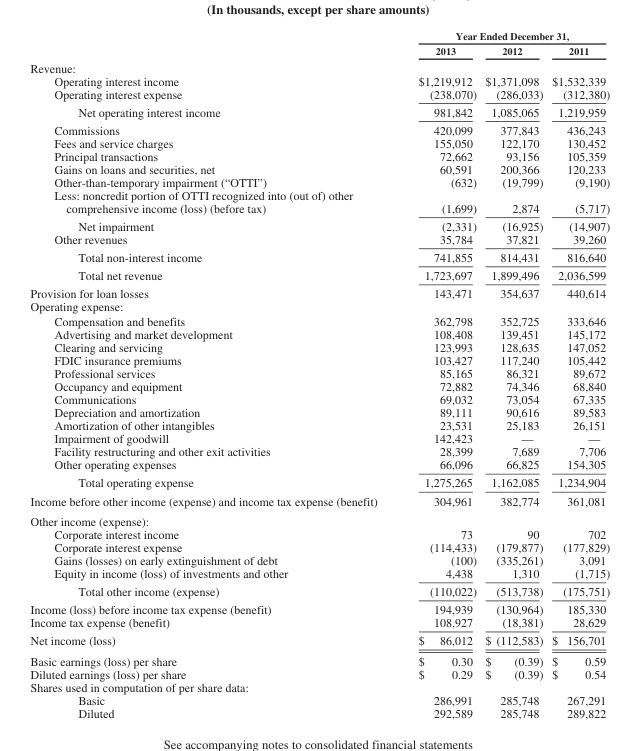table: (29, 29, 609, 719)
table column: (29, 29, 397, 719), (397, 29, 480, 719), (480, 29, 546, 719), (546, 29, 609, 719)
table column header: (29, 29, 609, 58)
table projected row header: (29, 510, 609, 527), (29, 58, 609, 74), (29, 299, 609, 313), (29, 680, 609, 693)
table row: (29, 188, 609, 216), (29, 247, 609, 266), (29, 491, 609, 510), (29, 631, 609, 650), (29, 102, 609, 120), (29, 266, 609, 284), (29, 473, 609, 491), (29, 582, 609, 600), (29, 510, 609, 527), (29, 650, 609, 667), (29, 42, 609, 58), (29, 58, 609, 74), (29, 120, 609, 136), (29, 216, 609, 232), (29, 457, 609, 473), (29, 566, 609, 582), (29, 615, 609, 631), (29, 87, 609, 102), (29, 232, 609, 247), (29, 284, 609, 299), (29, 600, 609, 615), (29, 299, 609, 313), (29, 313, 609, 327), (29, 29, 609, 42), (29, 74, 609, 87), (29, 136, 609, 149), (29, 149, 609, 162), (29, 162, 609, 175), (29, 175, 609, 188), (29, 327, 609, 340), (29, 340, 609, 353), (29, 353, 609, 366), (29, 366, 609, 379), (29, 379, 609, 392), (29, 392, 609, 405), (29, 405, 609, 418), (29, 418, 609, 431), (29, 431, 609, 444), (29, 444, 609, 457), (29, 527, 609, 540), (29, 540, 609, 553), (29, 553, 609, 566), (29, 667, 609, 680), (29, 680, 609, 693), (29, 693, 609, 706), (29, 706, 609, 719)
table spanning cell: (397, 29, 609, 42)
